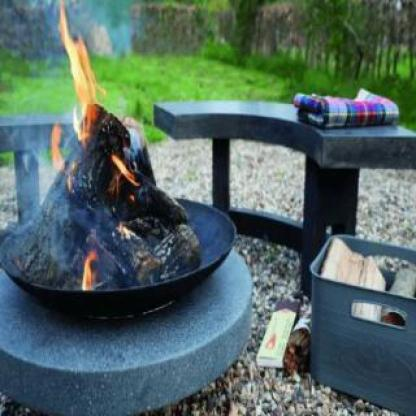fire: (48, 0, 104, 144), (46, 120, 81, 192), (75, 237, 103, 300)
